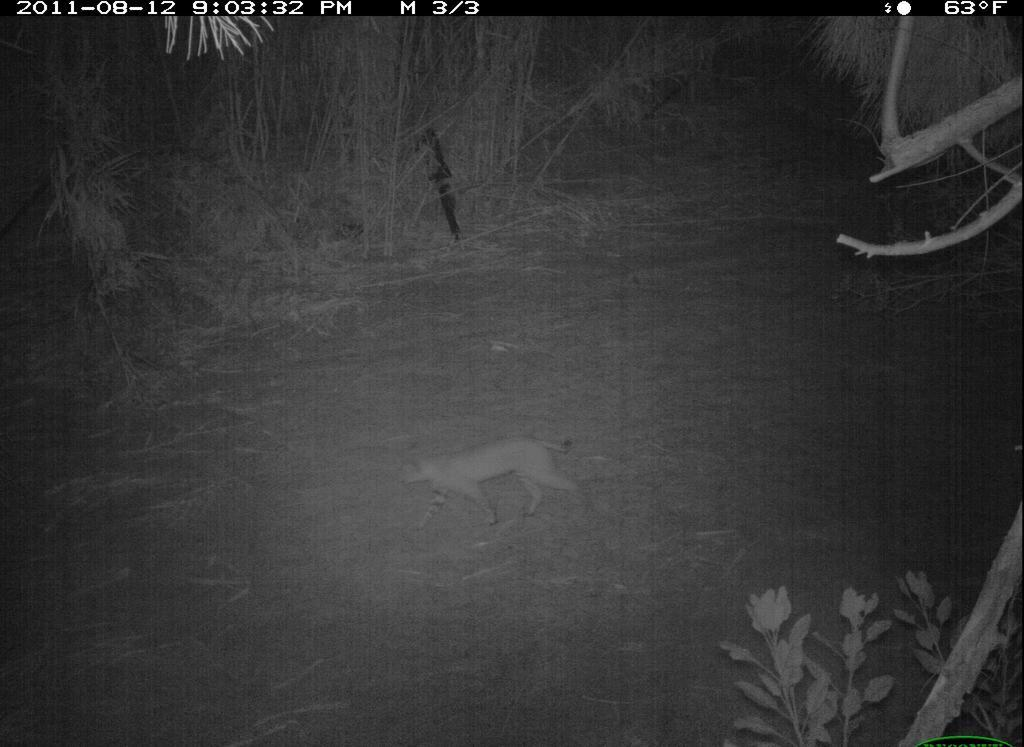bobcat: (394, 433, 593, 534)
